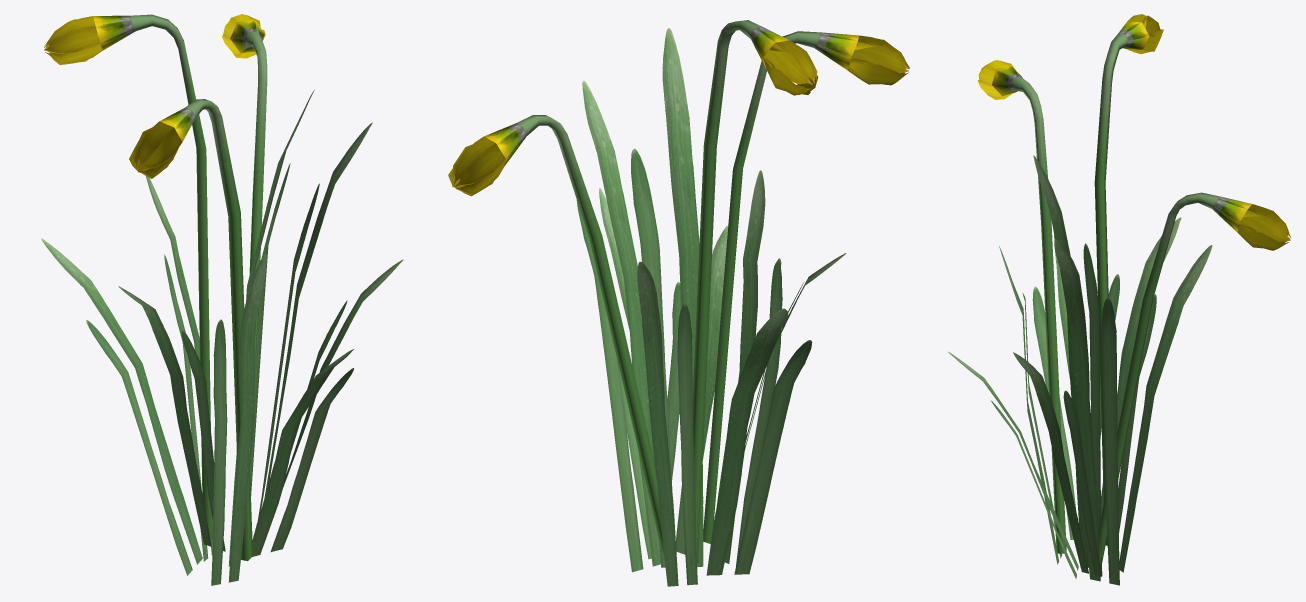
File: Narcissus2Abloomer.fbx
3 views of the same model, side by side, from view 1: azimuth 30°, elevation 25°; view 2: azimuth 150°, elevation 25°; view 3: azimuth 270°, elevation 25° (orthographic). The views are drawn at different scales.
Parts seen in each view (by area): view 1: Narcissus2Abloomer; view 2: Narcissus2Abloomer; view 3: Narcissus2Abloomer.
Boxes of the visible parts, <box> form: Narcissus2Abloomer: <box>41,14,403,585</box>; Narcissus2Abloomer: <box>448,20,909,586</box>; Narcissus2Abloomer: <box>948,14,1290,585</box>.
Bounding box in the file's own units: 36.44 × 57.79 × 36.84.
